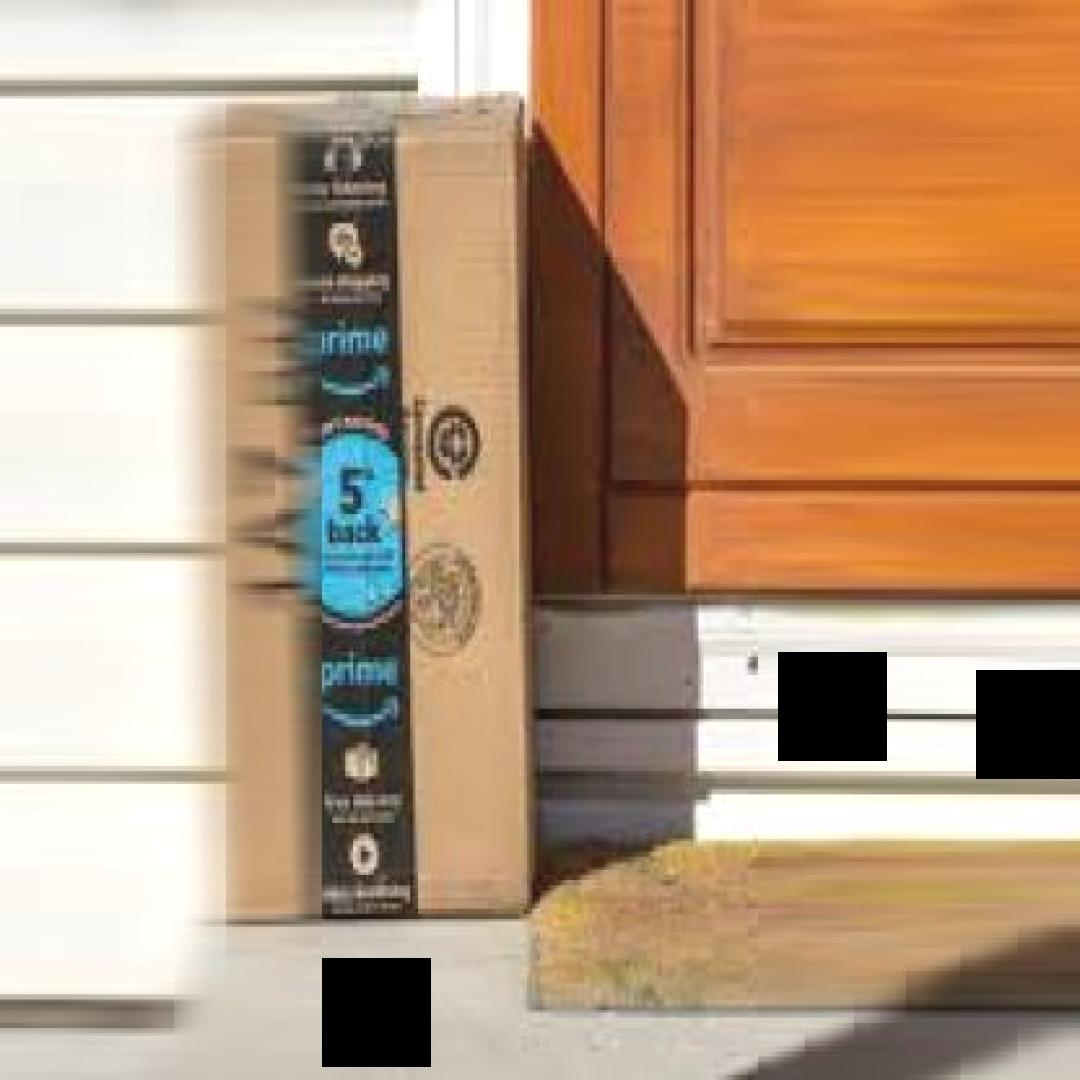package: (187, 91, 540, 932)
